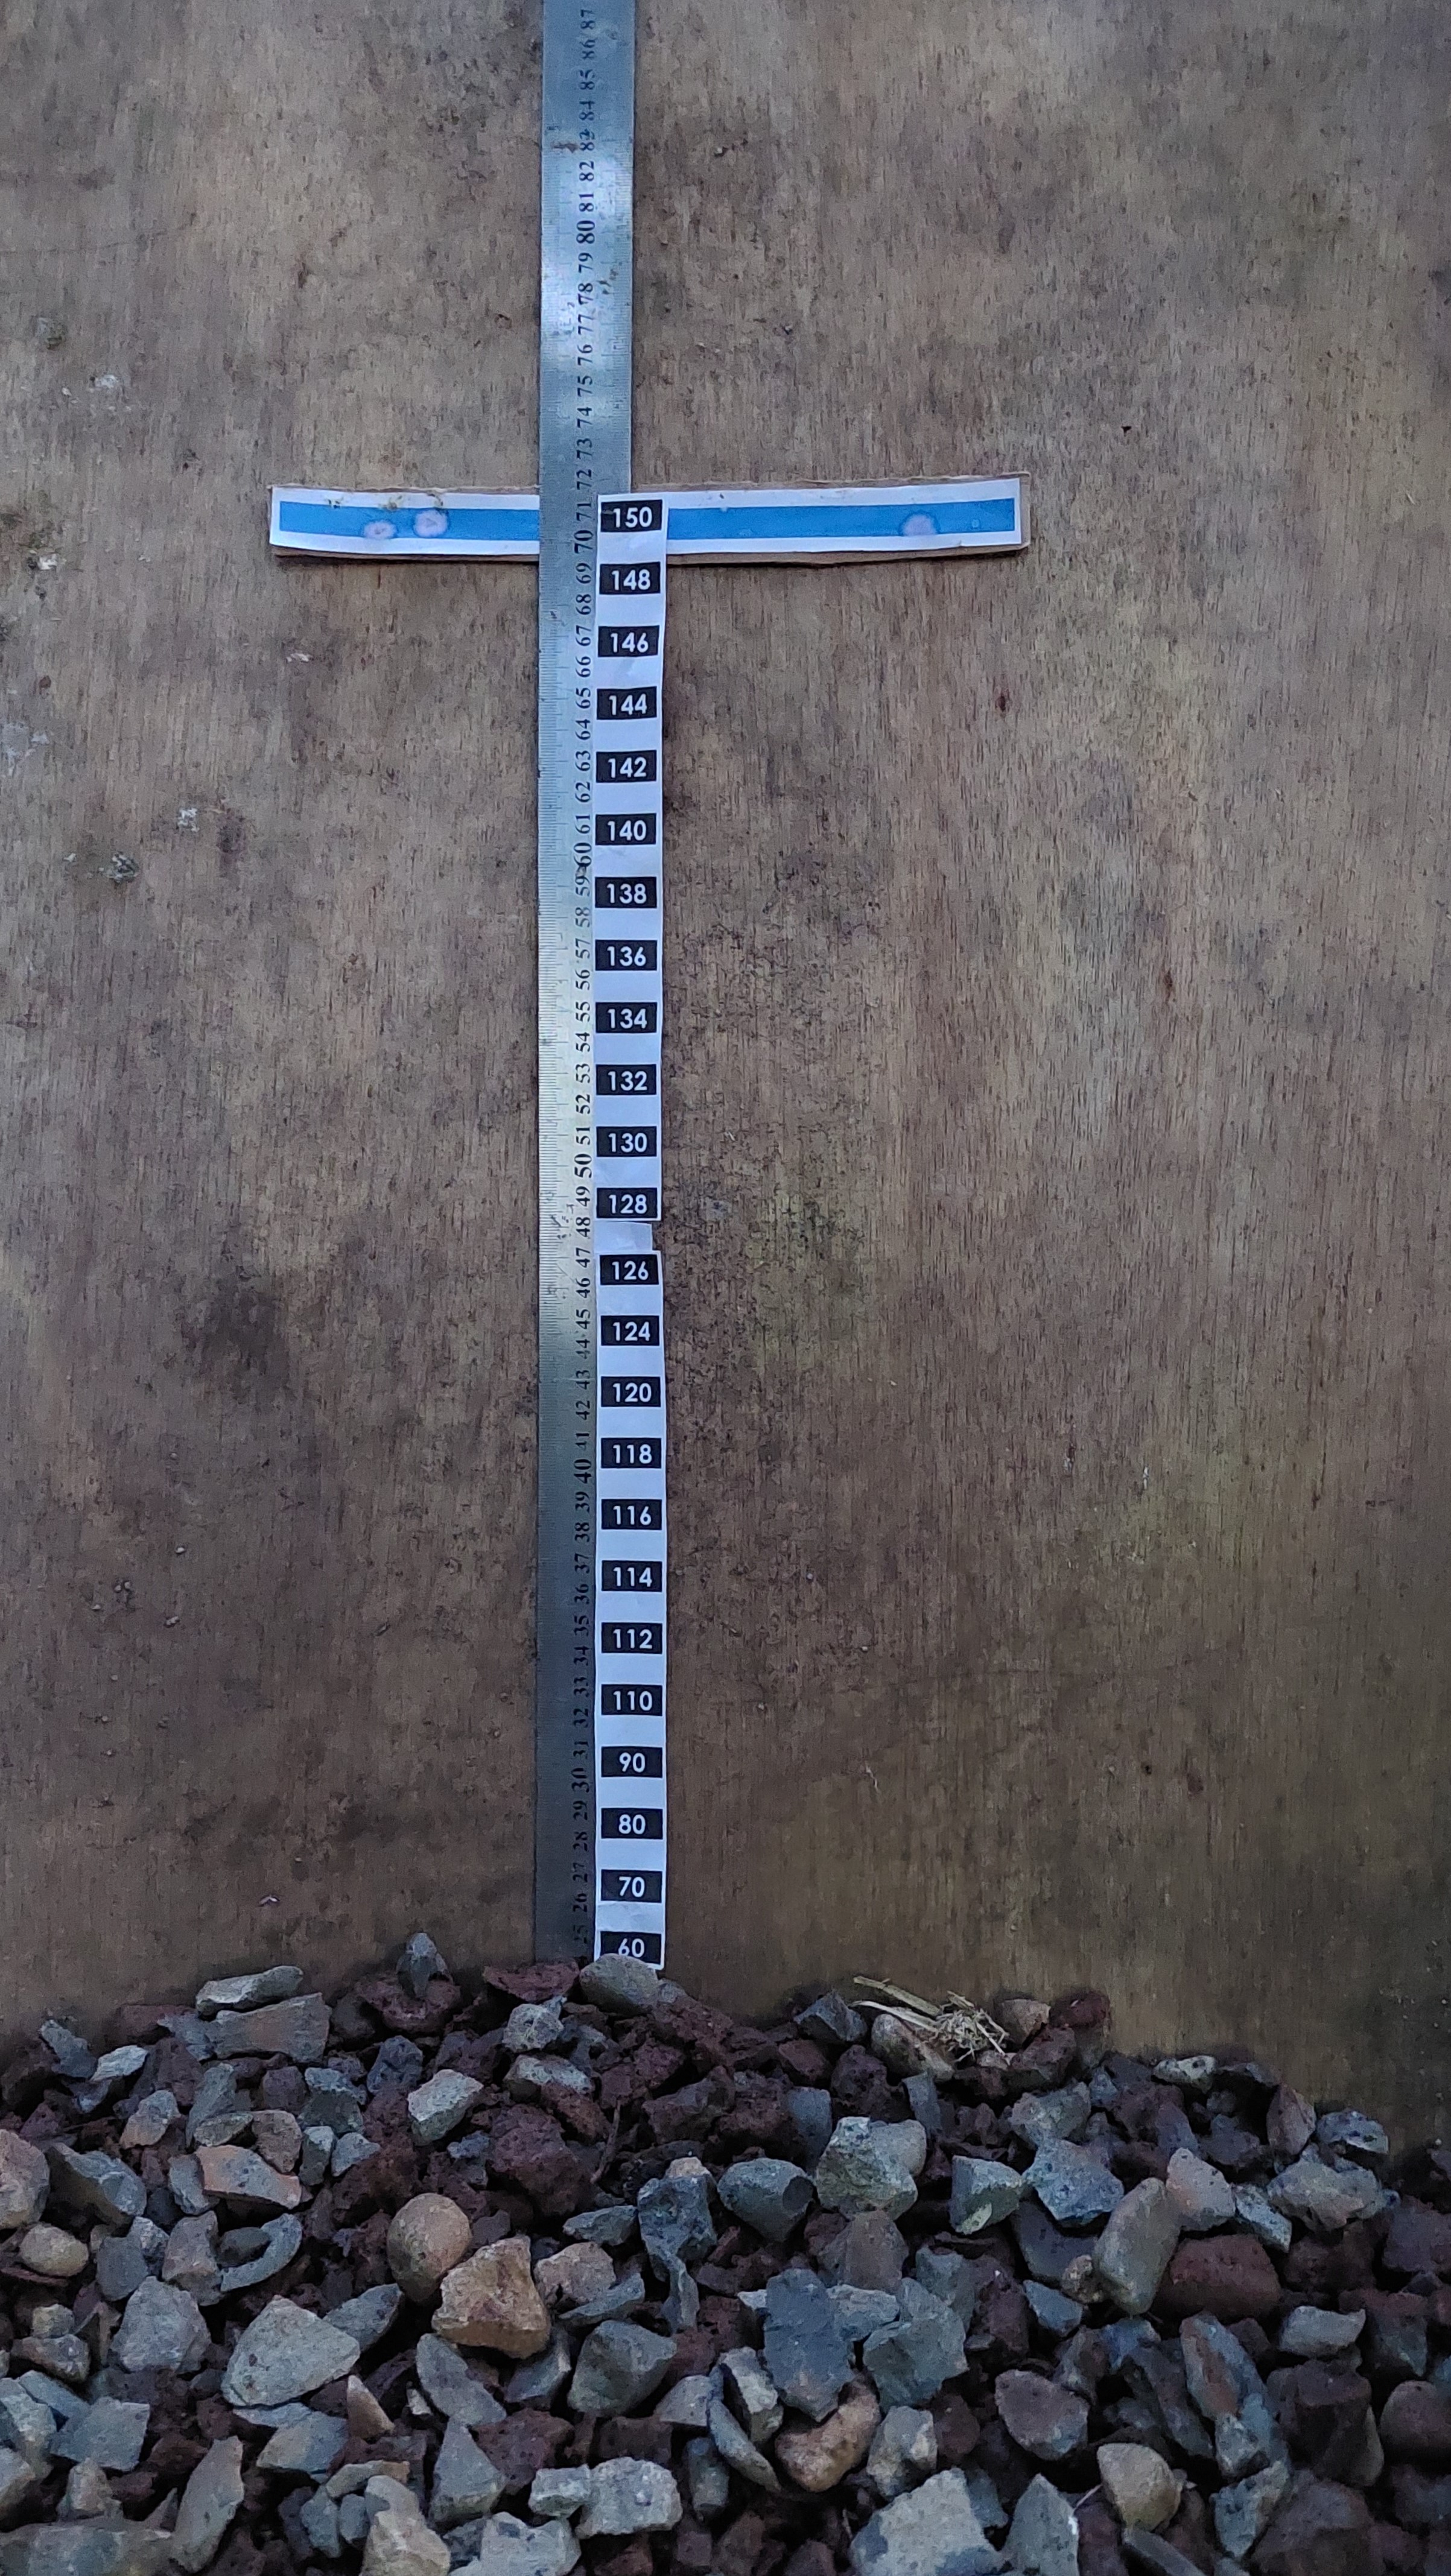kotak_2x1: (602, 499, 664, 534), (600, 1870, 662, 1905), (602, 1684, 664, 1720), (600, 1559, 662, 1594), (598, 1311, 660, 1346), (598, 1184, 660, 1219), (595, 1123, 656, 1159), (596, 748, 658, 784), (591, 938, 653, 973), (600, 686, 662, 722), (598, 625, 660, 660), (602, 1806, 662, 1842), (602, 1499, 662, 1534), (600, 1375, 660, 1410), (598, 1254, 658, 1290), (600, 1748, 662, 1782), (596, 1621, 658, 1654), (595, 1062, 656, 1095), (596, 1003, 658, 1037), (596, 870, 658, 904), (600, 561, 662, 594), (600, 1435, 660, 1468), (596, 812, 656, 846)
